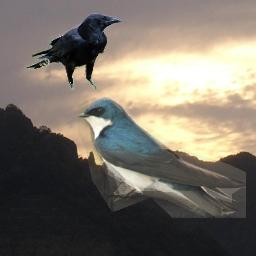Crow: (25, 13, 123, 90)
Swallow: (78, 97, 246, 218)
